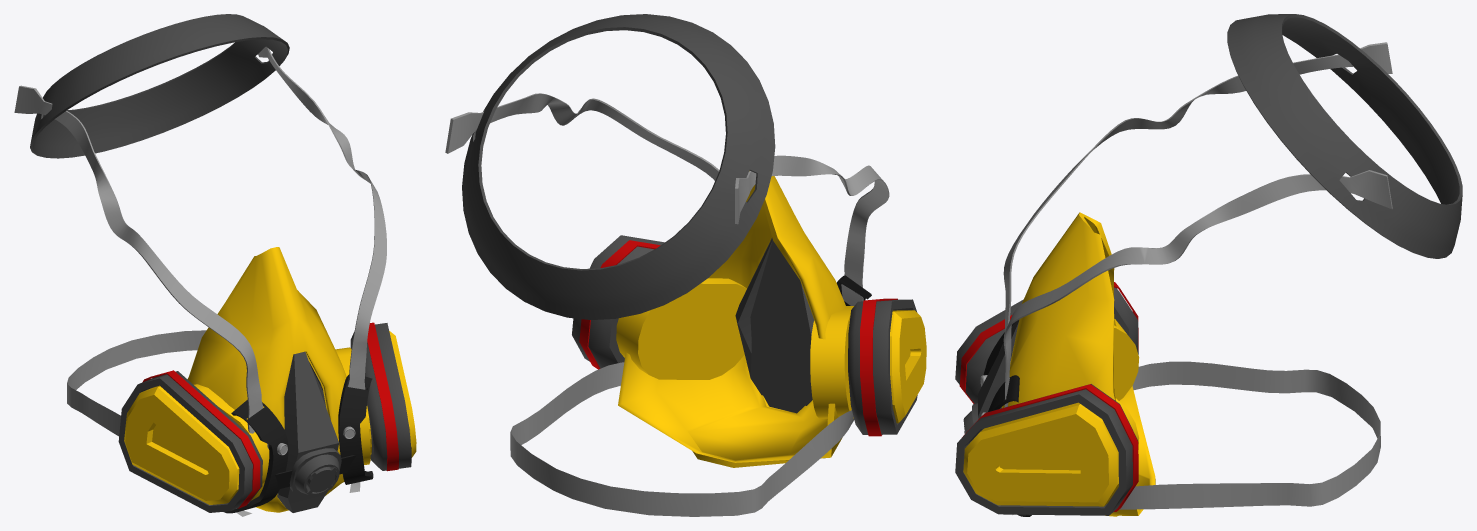
Rendered from respir.fbx.
3 renders of one model, left to right at view 1: azimuth 30°, elevation 25°; view 2: azimuth 150°, elevation 25°; view 3: azimuth 270°, elevation 25°, orthographic. The views are drawn at different scales.
Parts seen in each view (by area): view 1: Sphere001, Box001, Cylinder005, Box005, Box002, Cylinder004, Box008, Plane001, Cylinder007, Box006, Box003, Cylinder001 (+5 smaller); view 2: Sphere001, Box001, Plane001, Cylinder003, Box002, Box005, Cylinder004, Box008, Cylinder002, Cylinder005, Cylinder007, Cylinder006 (+1 smaller); view 3: Sphere001, Box001, Cylinder008, Plane001, Box008, Cylinder007, Box005, Cylinder004, Cylinder002, Cylinder009, Box002, Cylinder006 (+1 smaller).
Boxes of the visible parts, x1,y1,x2,y2 form: Sphere001: [30, 14, 289, 158]; Box001: [187, 247, 346, 512]; Cylinder005: [124, 385, 239, 504]; Box005: [14, 85, 263, 433]; Box002: [277, 351, 338, 512]; Cylinder004: [118, 371, 262, 512]; Box008: [258, 46, 386, 389]; Plane001: [67, 330, 360, 516]; Cylinder007: [350, 323, 411, 470]; Box006: [338, 374, 373, 484]; Box003: [223, 400, 288, 513]; Cylinder001: [289, 448, 341, 495]; Sphere001: [462, 14, 775, 319]; Box001: [618, 170, 845, 467]; Plane001: [510, 362, 854, 516]; Cylinder003: [616, 278, 746, 379]; Box002: [735, 237, 814, 413]; Box005: [735, 155, 889, 305]; Cylinder004: [848, 299, 917, 434]; Box008: [445, 93, 719, 180]; Cylinder002: [810, 306, 853, 418]; Cylinder005: [890, 310, 926, 423]; Cylinder007: [572, 235, 664, 368]; Cylinder006: [860, 298, 897, 436]; Sphere001: [1227, 14, 1462, 258]; Box001: [1002, 212, 1155, 516]; Cylinder008: [963, 402, 1118, 506]; Plane001: [1119, 361, 1380, 509]; Box008: [1003, 170, 1392, 407]; Cylinder007: [955, 384, 1137, 515]; Box005: [1003, 42, 1392, 331]; Cylinder004: [955, 287, 1138, 403]; Cylinder002: [1114, 319, 1139, 400]; Cylinder009: [962, 384, 1138, 511]; Box002: [978, 320, 1019, 418]; Cylinder006: [959, 282, 1138, 403].
Size of the model in its own units: 38.73 by 55.47 by 55.11.
